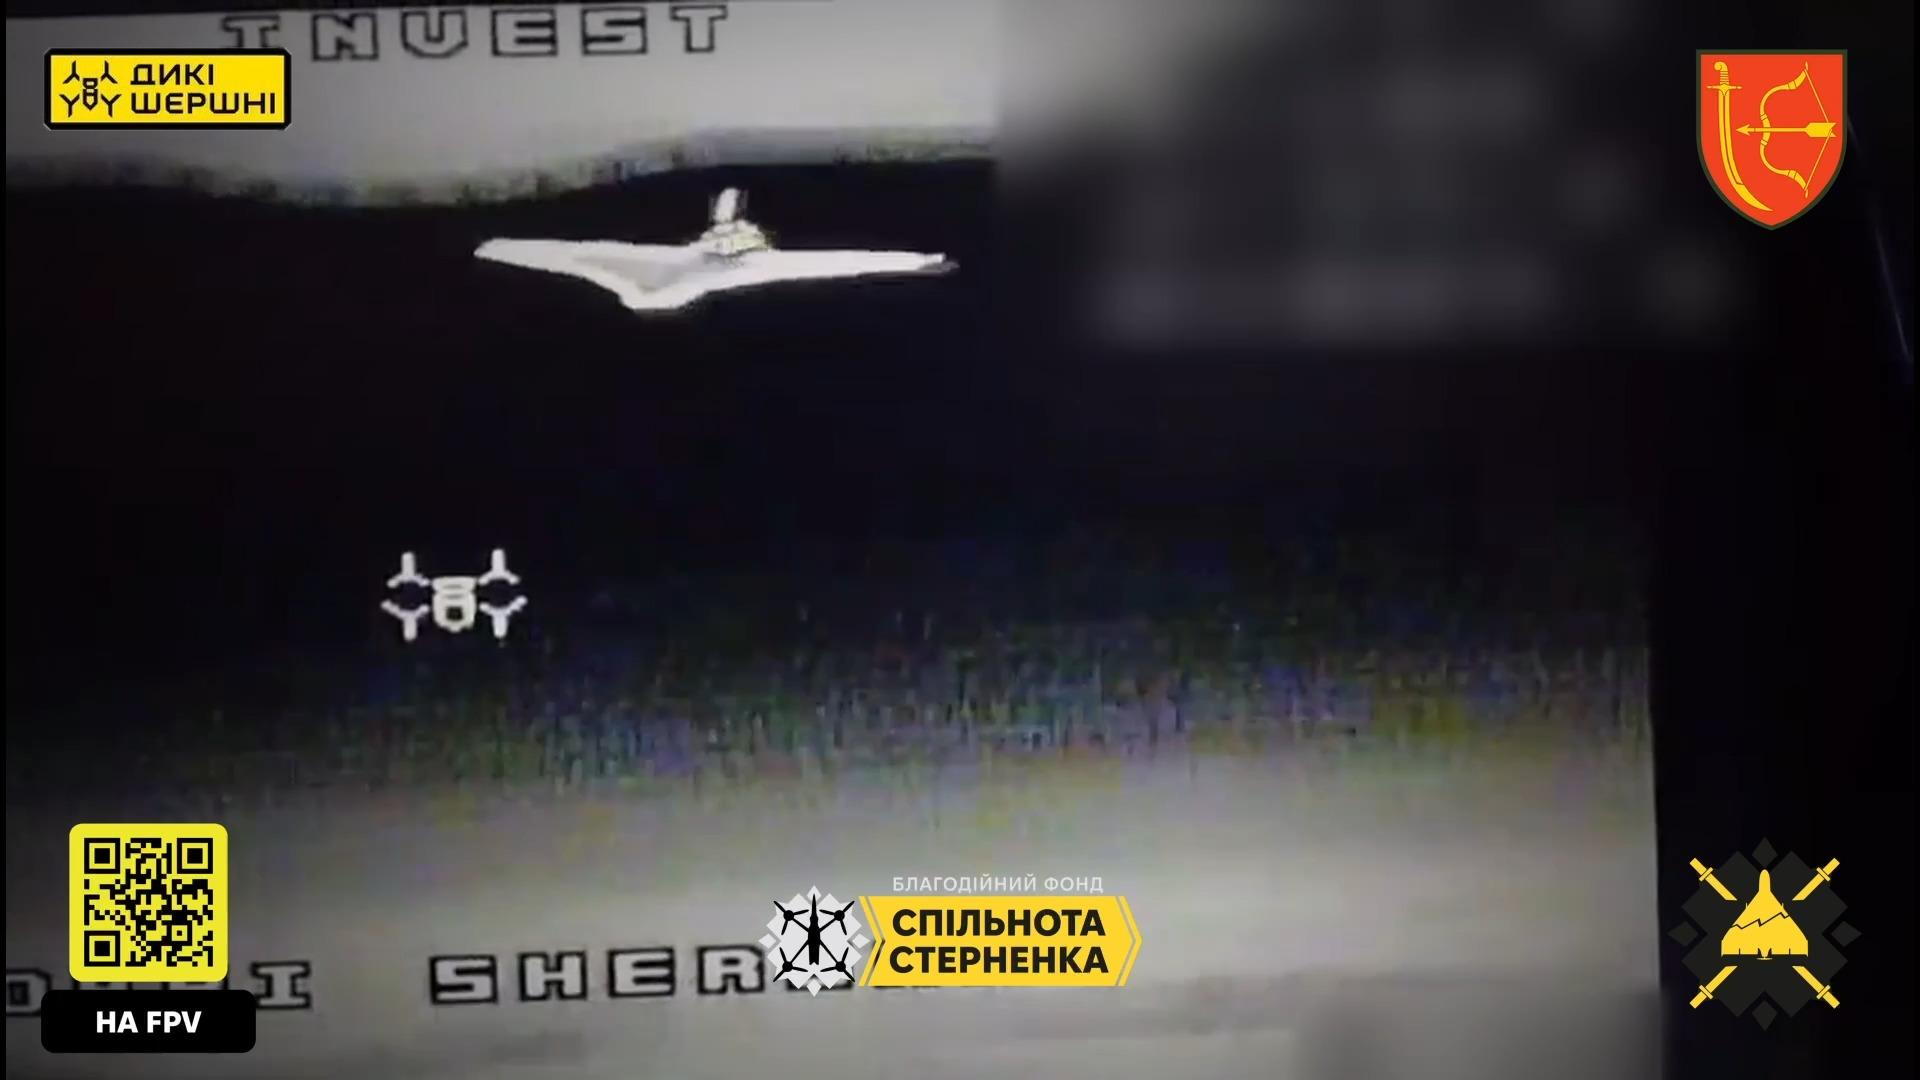Gerbera: (468, 185, 961, 314)
